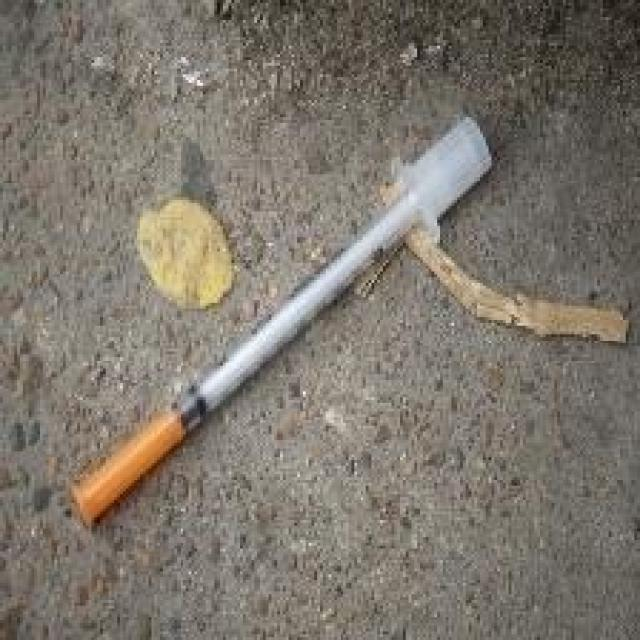syringe: (81, 62, 511, 584)
